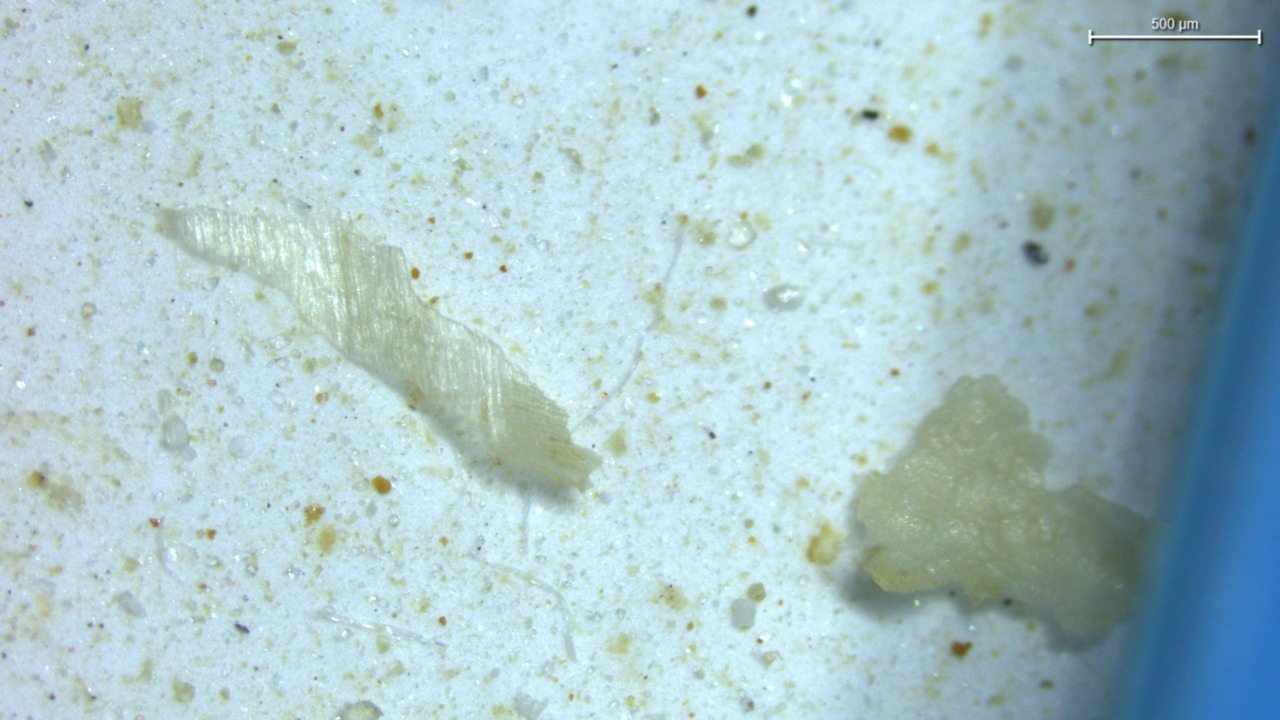microplastic_fragment: (160, 207, 599, 487), (852, 376, 1153, 647), (731, 597, 756, 629)
